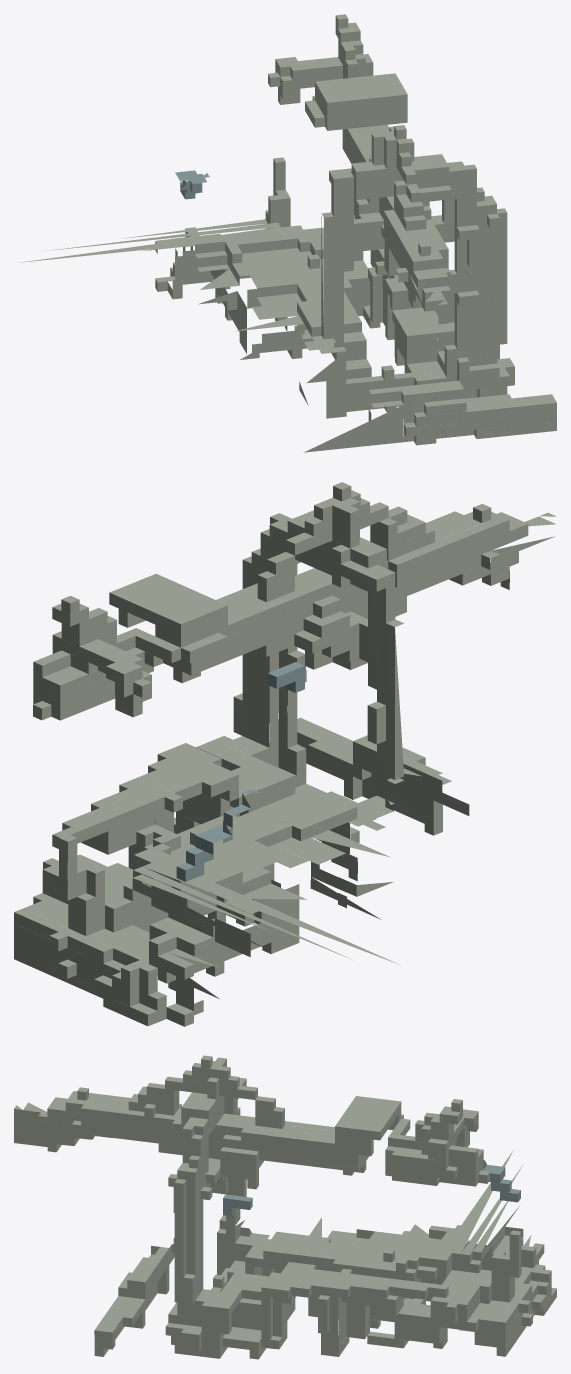
3 renders of one model, top to bottom at view 1: azimuth 30°, elevation 25°; view 2: azimuth 150°, elevation 25°; view 3: azimuth 270°, elevation 25°, orthographic. The views are drawn at different scales.
Visible parts, largest first — view 1: measured-industrial; view 2: measured-industrial; view 3: measured-industrial.
Part boxes in pixels (left/top/right/bottom): measured-industrial: left=18, top=14, right=556, bottom=452; measured-industrial: left=14, top=482, right=556, bottom=1026; measured-industrial: left=14, top=1055, right=556, bottom=1359.
Bounding box in the file's own units: 54.08 × 45.03 × 86.54.
